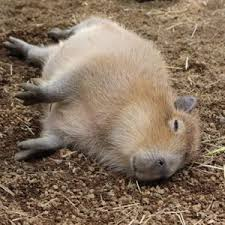capivara: (5, 15, 202, 184)
